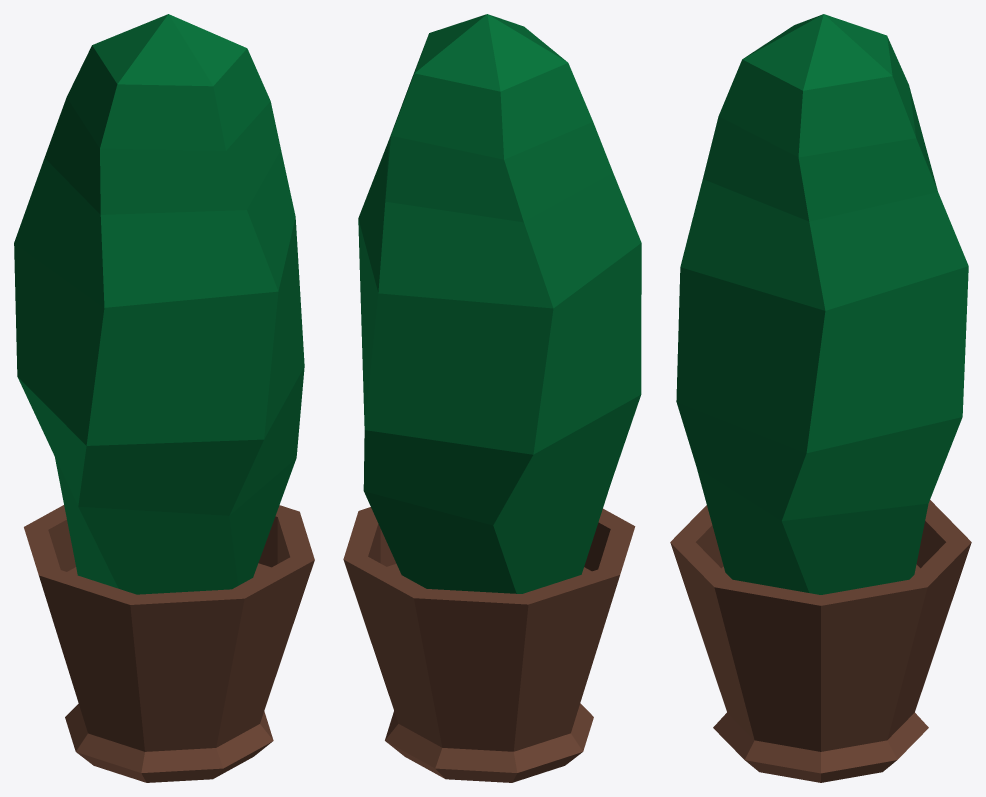
Rendered from plant 2.fbx.
The picture shows the model from 3 angles, left to right: view 1: azimuth 30°, elevation 25°; view 2: azimuth 150°, elevation 25°; view 3: azimuth 270°, elevation 25°; orthographic projection.
Visible parts, largest first — view 1: pCylinder13; view 2: pCylinder13; view 3: pCylinder13.
Part boxes in pixels (left/top/right/bottom): pCylinder13: left=14, top=14, right=314, bottom=782; pCylinder13: left=343, top=14, right=641, bottom=782; pCylinder13: left=670, top=14, right=971, bottom=782.
Bounding box in the file's own units: 3.21 × 8.61 × 3.21.
